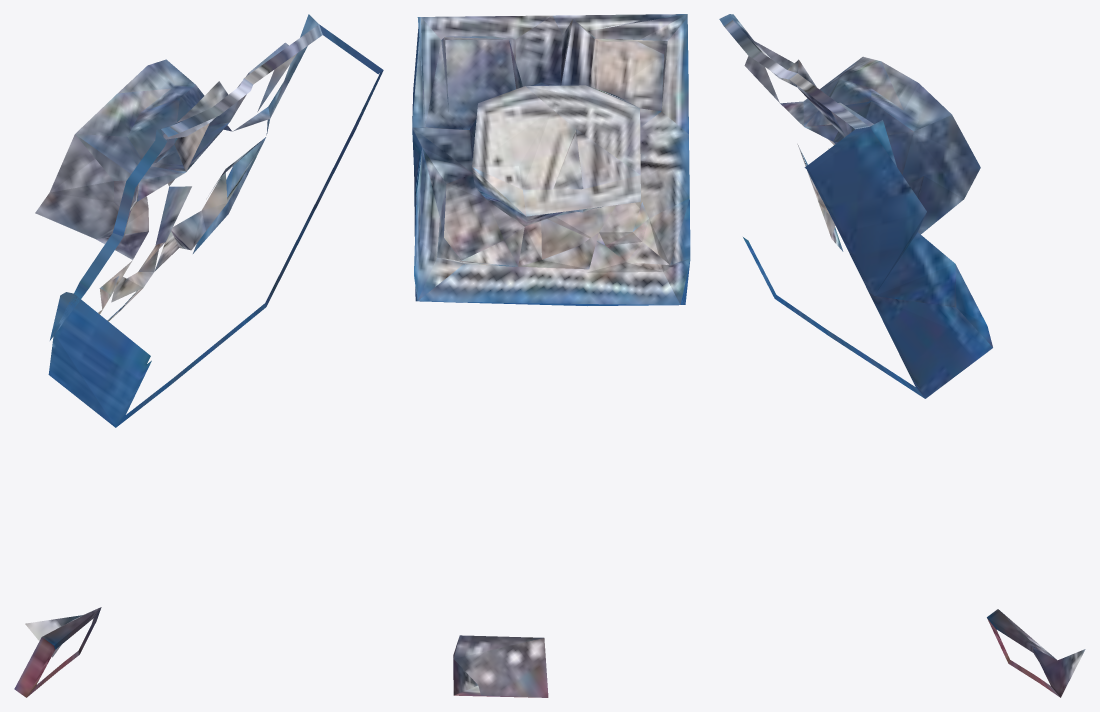
3 renders of one model, left to right at view 1: azimuth 30°, elevation 25°; view 2: azimuth 150°, elevation 25°; view 3: azimuth 270°, elevation 25°, orthographic. The views are drawn at different scales.
Size of the model in its own units: 29.81 by 59.99 by 30.96.
Materials: 1 (1 with a texture image).
